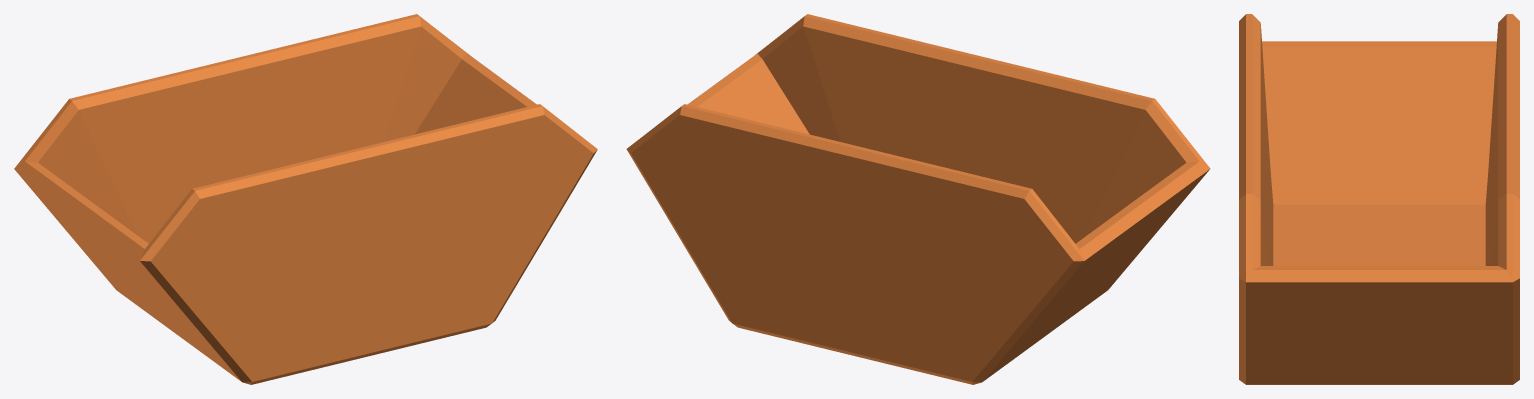
File: skip.glb
The picture shows the model from 3 angles, left to right: view 1: azimuth 30°, elevation 25°; view 2: azimuth 150°, elevation 25°; view 3: azimuth 270°, elevation 25°; orthographic projection. The views are drawn at different scales.
Visible parts, largest first — view 1: Skip2; view 2: Skip2; view 3: Skip2.
Part boxes in pixels (bbox=[...]): Skip2: bbox=[14, 14, 597, 384]; Skip2: bbox=[626, 14, 1210, 384]; Skip2: bbox=[1239, 14, 1519, 384].
Bounding box in the file's own units: 5.79 × 2.51 × 2.9.
